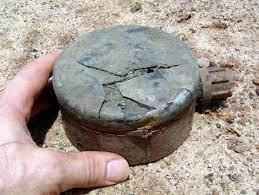pmn: (50, 23, 235, 167)
